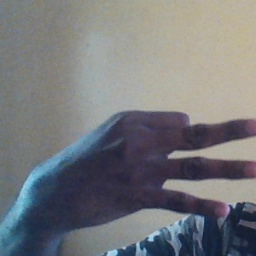K: (44, 111, 256, 221)
